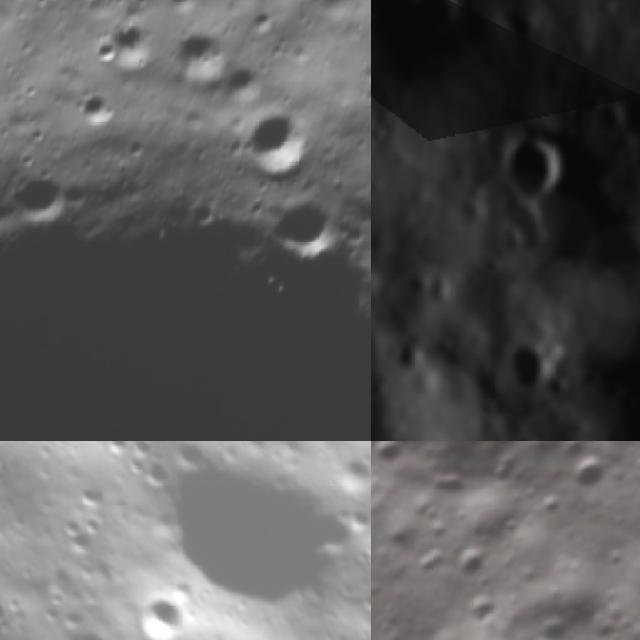crater: (124, 441, 371, 640), (371, 441, 640, 512), (226, 100, 315, 188), (0, 158, 76, 232), (268, 194, 342, 268), (166, 24, 240, 96), (503, 138, 571, 210), (549, 443, 615, 511), (492, 205, 561, 263), (120, 584, 191, 640), (437, 537, 490, 590), (107, 24, 158, 76), (71, 86, 122, 137), (411, 0, 462, 41), (508, 345, 545, 397), (371, 441, 407, 477), (51, 624, 124, 640), (157, 0, 211, 17), (371, 124, 398, 157), (623, 8, 640, 54)
